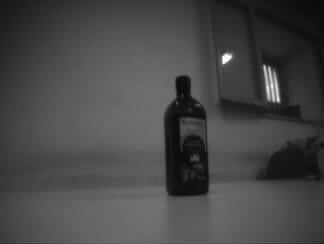Bottle: (164, 76, 209, 195)
